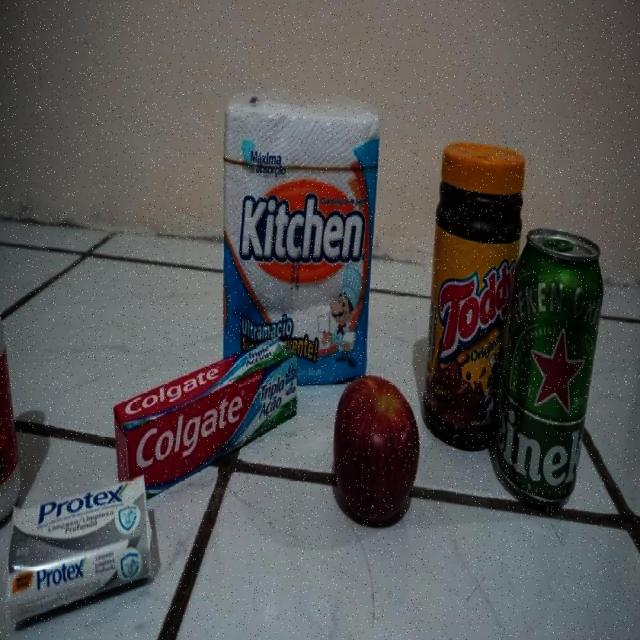Apple: (326, 372, 422, 528)
BeerCan: (512, 223, 608, 512)
ChocolatePowder: (426, 137, 508, 444)
CoconutMilk: (0, 252, 22, 514)
Napkin: (223, 101, 377, 334)
Soap: (9, 484, 160, 620)
Toothpaste: (114, 343, 295, 475)
